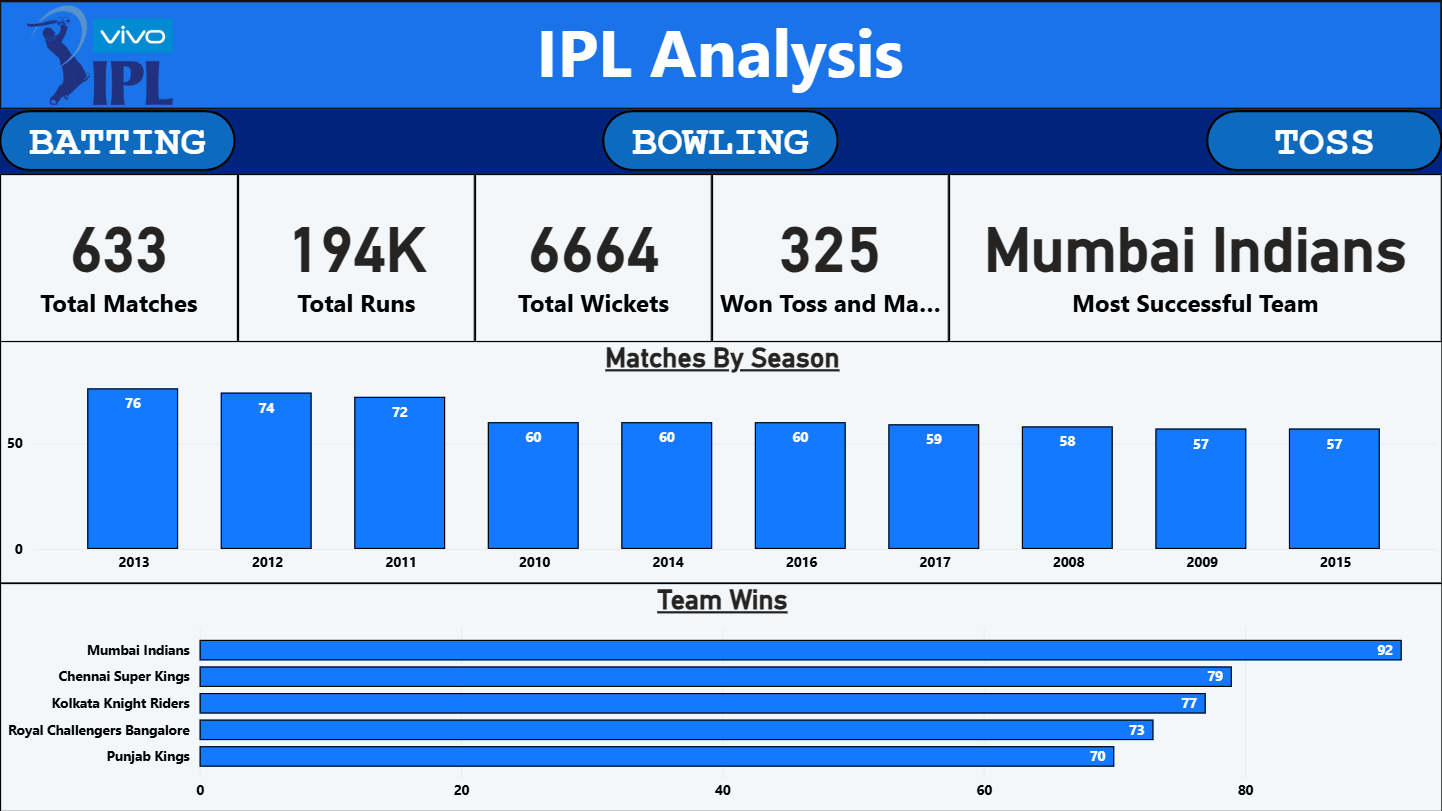

What the dashboard file says about the page in this screenshot:
{"tool":"powerbi","page":{"name":"OVERVIEW","canvas":[1280,720],"ordinal":0},"visuals":[{"type":"card","fields":{"Values":["Measures (2).Total Matches"]},"box":[0.9,154,211,148.7],"z":0},{"type":"card","fields":{"Values":["Measures (2).Total Runs"]},"box":[211.9,154.3,210.1,148.1],"z":1000},{"type":"card","fields":{"Values":["Measures (2).Total Wickets"]},"box":[421.9,154,210.1,148.7],"z":2000},{"type":"card","fields":{"Values":["Measures (2).Won Toss and Match"]},"box":[632.2,153.7,219.8,148.8],"z":3000},{"type":"shape","box":[0,0,1280,97.5],"z":4000},{"type":"textbox","box":[403.6,0,471.8,97.8],"z":5000},{"type":"image","box":[0,0,178.3,97.8],"z":6000},{"type":"card","fields":{"Values":["Measures (2).Most Successful Team"]},"box":[852.3,153.7,426.7,148.6],"z":7000},{"type":"columnChart","title":"Matches By Season","fields":{"Category":["matches (1) csv.season"],"Y":["CountNonNull(matches (1) csv.id)"]},"box":[0.9,302.6,1279.1,215.4],"z":8000},{"type":"shape","box":[1070,97.5,210,54.3],"z":9000},{"type":"shape","box":[534.5,97.5,210,54.3],"z":10000},{"type":"shape","box":[0,97.5,210,54.3],"z":11000},{"type":"clusteredBarChart","title":"Team Wins","fields":{"Y":["CountNonNull(matches (1) csv.id)"],"Category":["matches (1) csv.winner"]},"box":[0.9,517.2,1279.1,202.9],"z":12000}]}

Visuals, with their boxes in screenshot pixels (x1, y1, x2, y2), scaled from the page's 1280x720 canvas onto the 1442x811 screenshot:
card - Measures (2).Total Matches: BBox(1, 173, 239, 341)
card - Measures (2).Total Runs: BBox(239, 174, 475, 341)
card - Measures (2).Total Wickets: BBox(475, 173, 712, 341)
card - Measures (2).Won Toss and Match: BBox(712, 173, 960, 341)
shape: BBox(0, 0, 1441, 110)
textbox: BBox(455, 0, 986, 110)
image: BBox(0, 0, 201, 110)
card - Measures (2).Most Successful Team: BBox(960, 173, 1441, 341)
"Matches By Season" columnChart: BBox(1, 341, 1441, 583)
shape: BBox(1205, 110, 1441, 171)
shape: BBox(602, 110, 839, 171)
shape: BBox(0, 110, 237, 171)
"Team Wins" clusteredBarChart: BBox(1, 583, 1441, 810)
